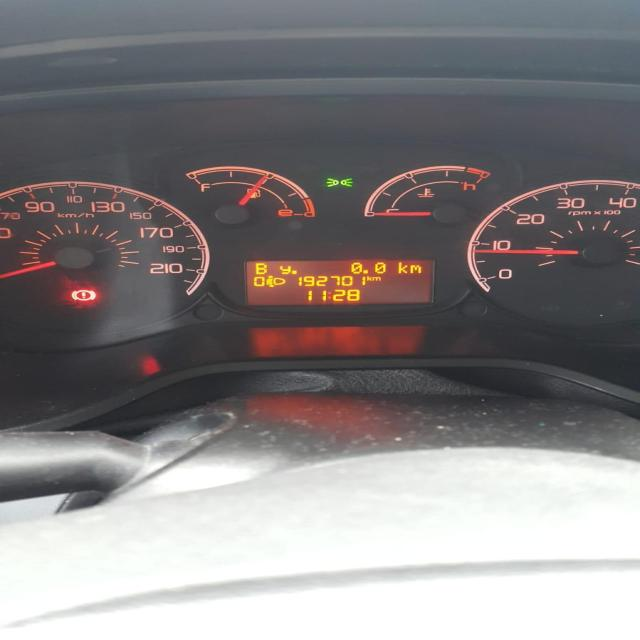odometer: (240, 258, 442, 308)
